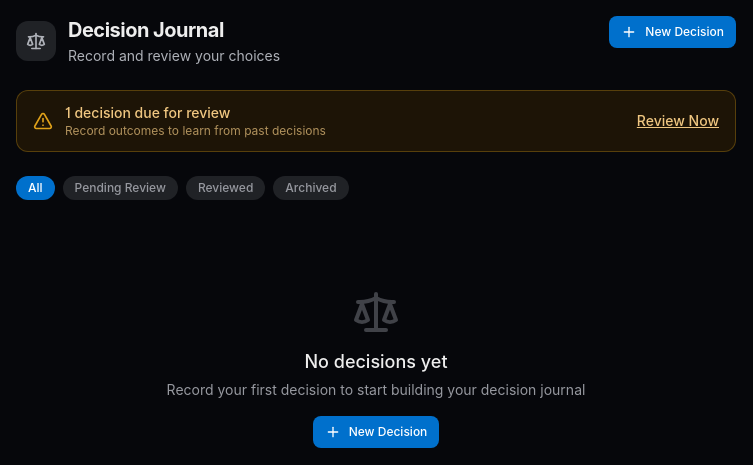
Test case: DecisionsPage › hides the due-review banner and shows the filtered empty state
Expected: the text "1 decision due for review" is shown, [65,104,230,121]
What coordinates should you click on to do the following:
click the tab "Pending Review"
I would click on:
 (120, 188)
Its box is [63,176,178,200].
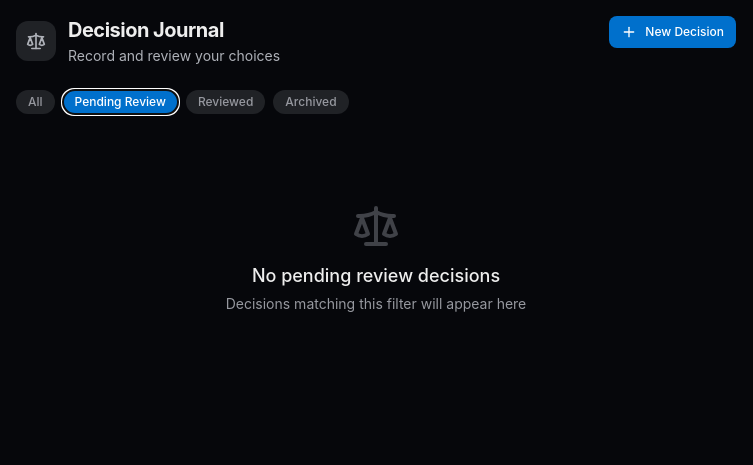
Now the heading "No pending review decisions" is shown, box [252,262,500,290]
Now the text "1 decision due for review" is gone
Now the button "Review Now" is gone
